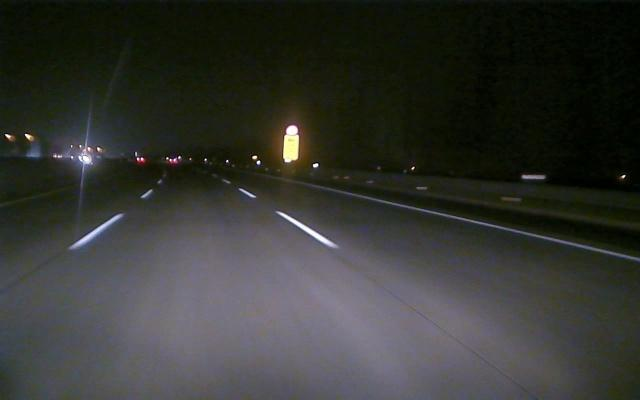lane: (321, 188, 637, 262), (238, 187, 340, 249), (70, 190, 152, 247)
